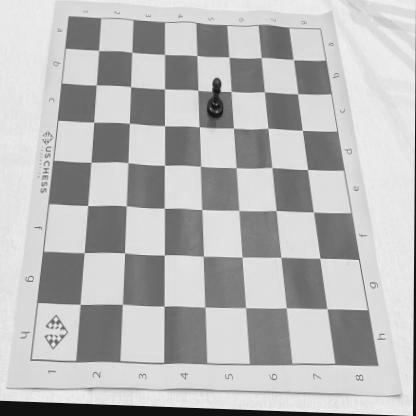black-pawn: (207, 78, 225, 120)
